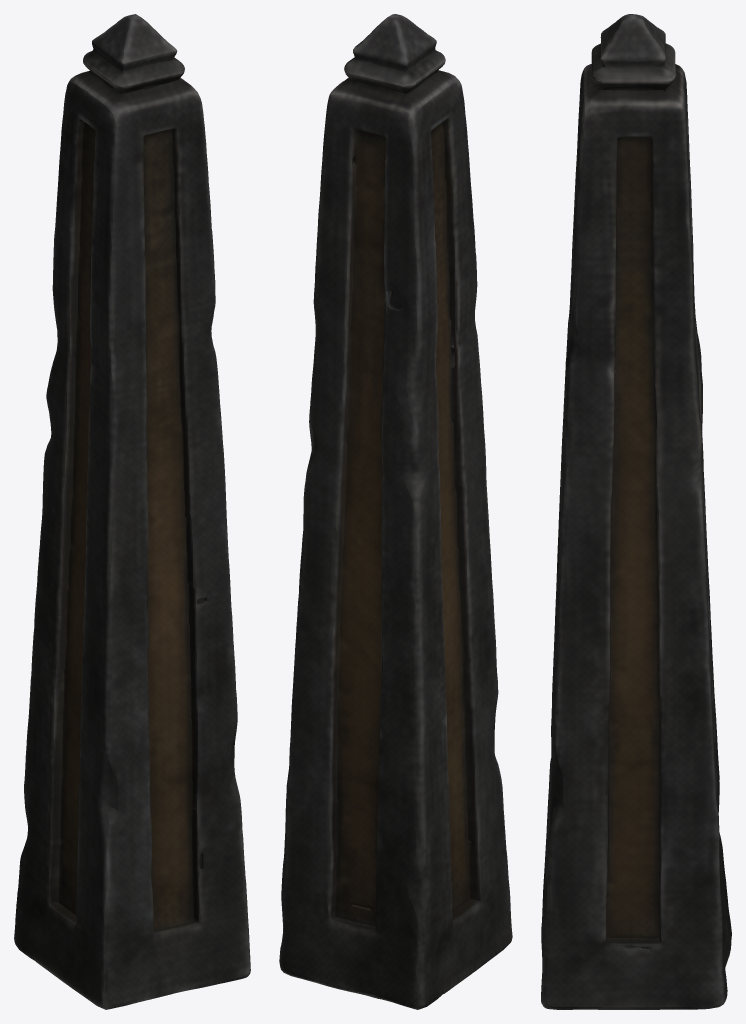
3 views of the same model, side by side, from view 1: azimuth 30°, elevation 25°; view 2: azimuth 150°, elevation 25°; view 3: azimuth 270°, elevation 25° (orthographic).
Visible parts, largest first — view 1: world; view 2: world; view 3: world.
Boxes of the visible parts, left/top/right/bottom form: world: left=14, top=14, right=250, bottom=1009; world: left=279, top=14, right=512, bottom=1009; world: left=541, top=14, right=731, bottom=1009.
Size of the model in its own units: 0.1666 by 1 by 0.1808.
1 material, 1 textured.
